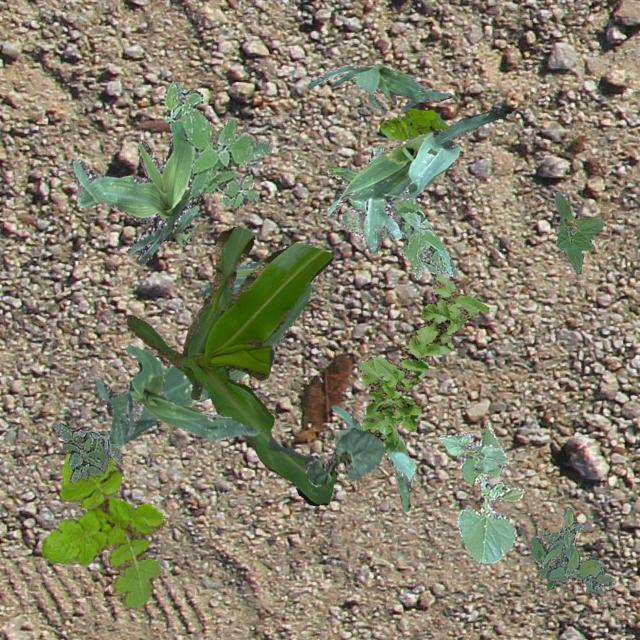crop: (126, 226, 337, 504), (94, 258, 316, 446), (326, 108, 510, 254), (70, 133, 198, 264), (124, 344, 260, 440), (456, 422, 524, 562), (330, 404, 416, 510), (306, 64, 451, 112), (302, 426, 384, 486), (554, 190, 602, 274), (438, 432, 508, 472)
weed: (358, 272, 488, 452), (39, 452, 162, 608), (338, 144, 456, 278), (164, 80, 270, 208), (528, 506, 614, 596), (52, 421, 122, 482), (378, 108, 448, 140)
